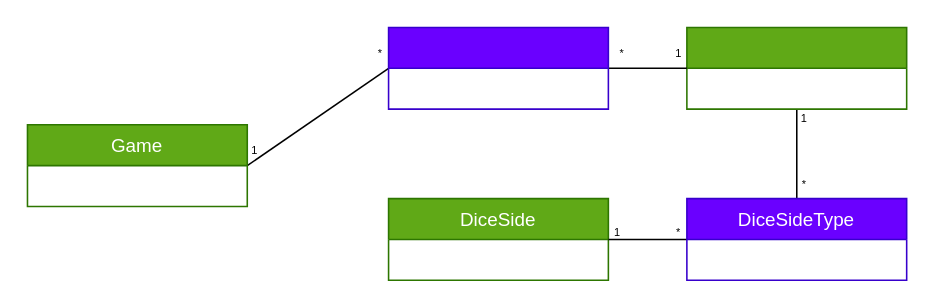
Some shapes in this 934 by 308 pixel diagram are drawn without their labels. The centre of each missing label's shape, as x and y in pixels:
"Dice" belongs at [796,67].
"DiceType" belongs at [497,67].
